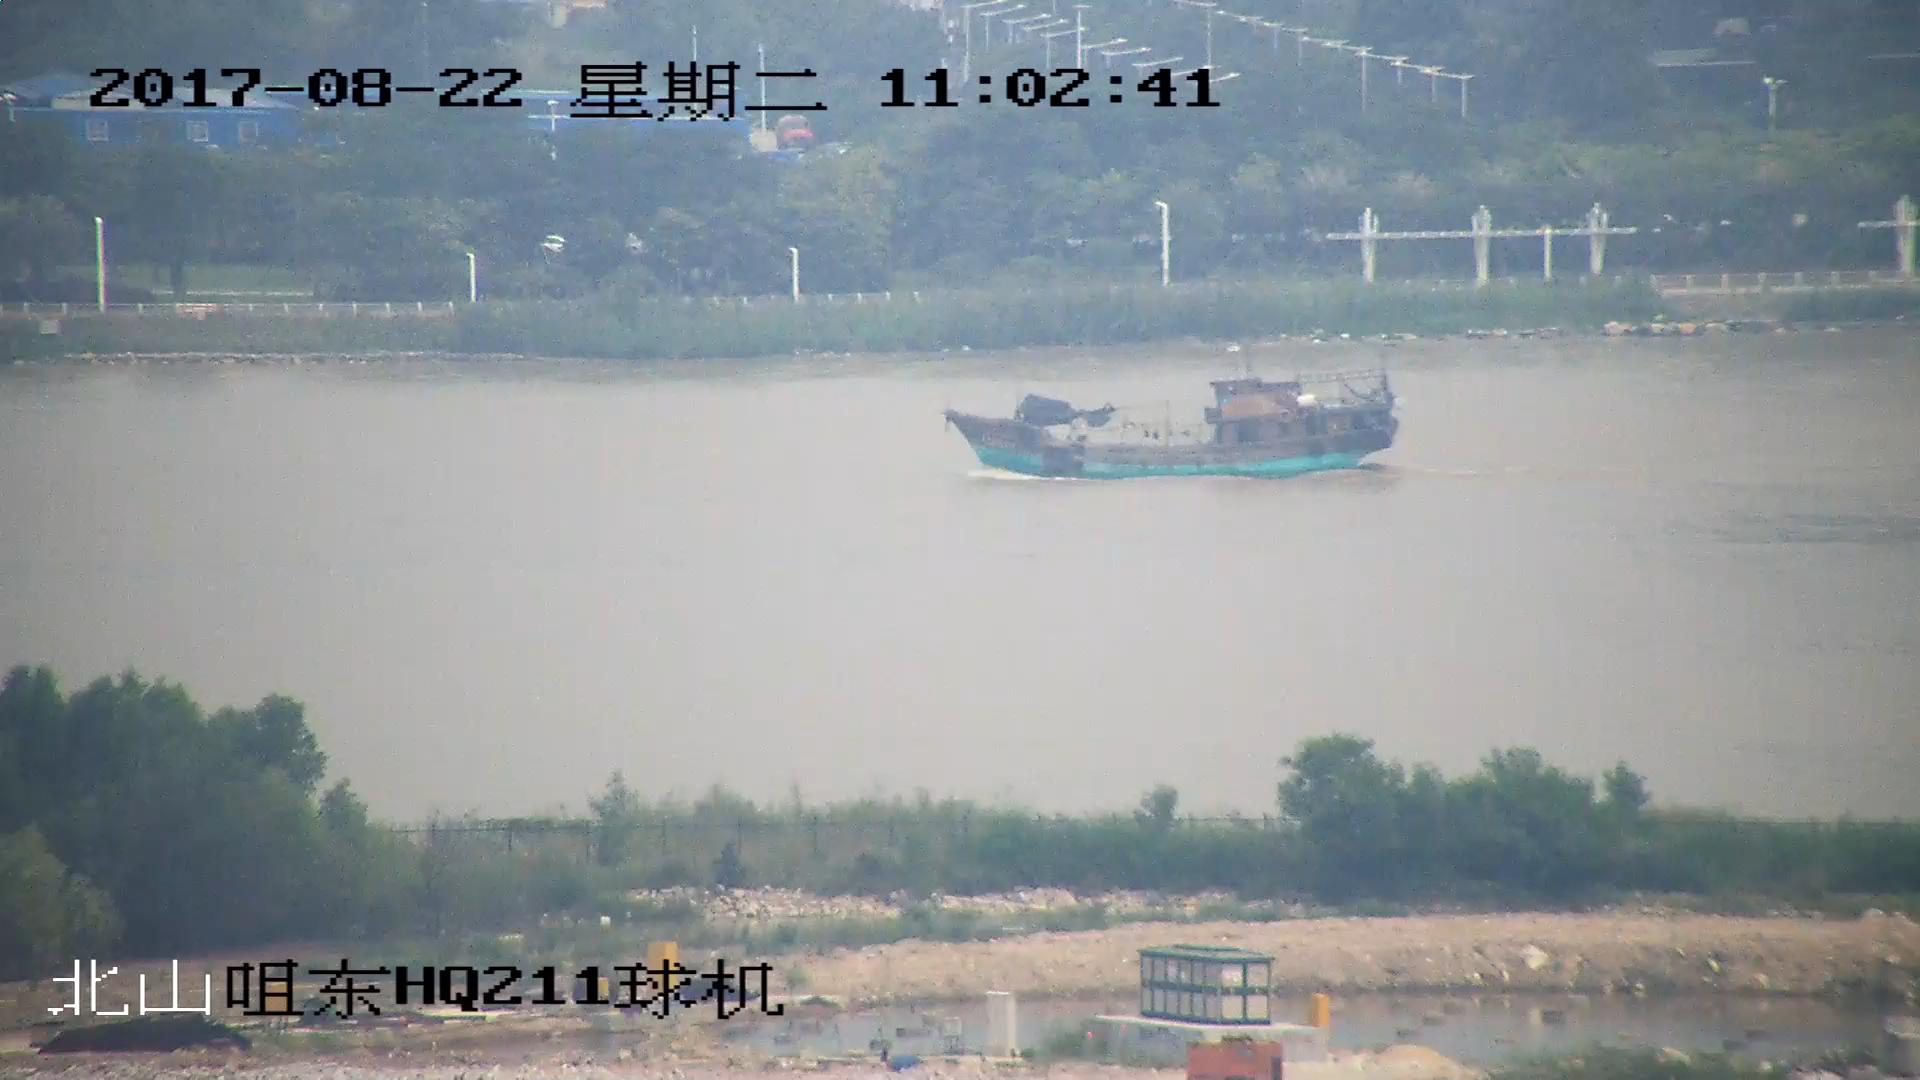fishing boat: (952, 367, 1404, 481)
